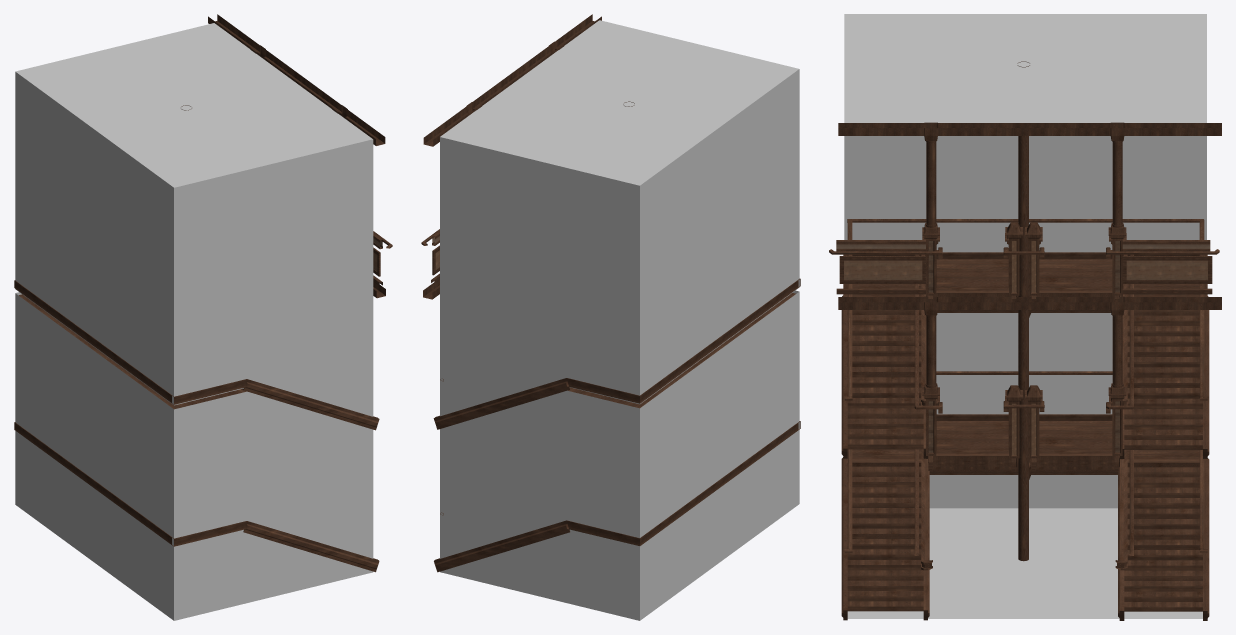
File: Trapphus.fbx
3 renders of one model, left to right at view 1: azimuth 30°, elevation 25°; view 2: azimuth 150°, elevation 25°; view 3: azimuth 270°, elevation 25°, orthographic. The views are drawn at different scales.
Parts seen in each view (by area): view 1: polySurface679, polySurface724, polySurface802, pCylinder87, polySurface676; view 2: polySurface679, polySurface724, polySurface802, pCylinder87, polySurface676; view 3: polySurface679, polySurface802, polySurface724, pCylinder87, polySurface762, pCylinder90, polySurface801, polySurface676, pCylinder88, pCube182, pCube188, polySurface790 (+13 smaller).
Boxes of the visible parts, <box> form: polySurface679: <box>15,23,373,620</box>; polySurface724: <box>14,280,379,430</box>; polySurface802: <box>14,422,379,572</box>; pCylinder87: <box>208,14,385,145</box>; polySurface676: <box>19,294,246,409</box>; polySurface679: <box>440,20,799,620</box>; polySurface724: <box>433,278,800,429</box>; polySurface802: <box>434,421,800,572</box>; pCylinder87: <box>423,14,601,146</box>; polySurface676: <box>568,293,795,408</box>; polySurface679: <box>844,14,1206,618</box>; polySurface802: <box>841,414,1209,620</box>; polySurface724: <box>841,252,1209,458</box>; pCylinder87: <box>838,122,1221,295</box>; polySurface762: <box>829,219,1219,555</box>; pCylinder90: <box>838,296,1221,455</box>; polySurface801: <box>847,421,1199,479</box>; polySurface676: <box>847,259,1199,317</box>; pCylinder88: <box>1017,61,1029,561</box>; pCube182: <box>1122,256,1212,283</box>; pCube188: <box>839,256,925,283</box>; polySurface790: <box>1030,450,1119,471</box>.
Size of what is drawn, in the model's own units: 767 by 1512 by 1069.
